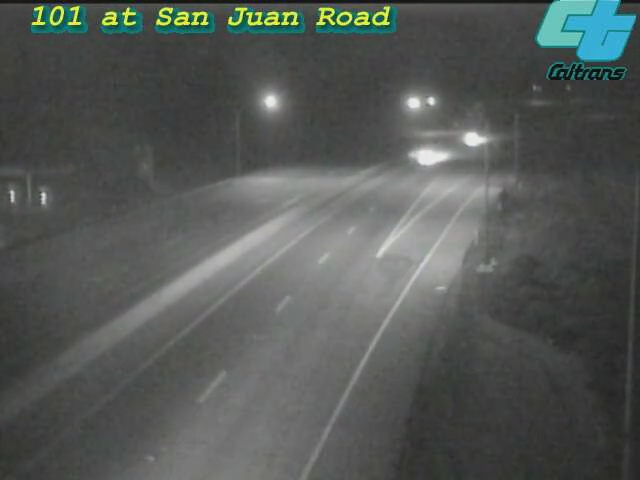vehicle: (450, 113, 500, 163), (399, 134, 449, 184)
